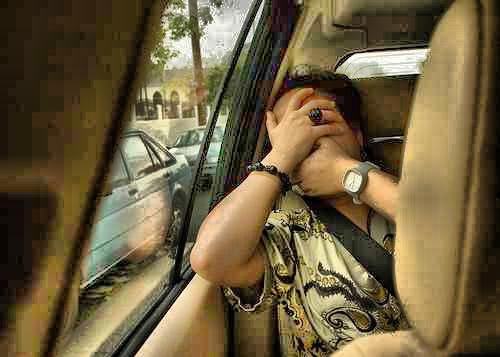seatbelt: (285, 170, 411, 296)
